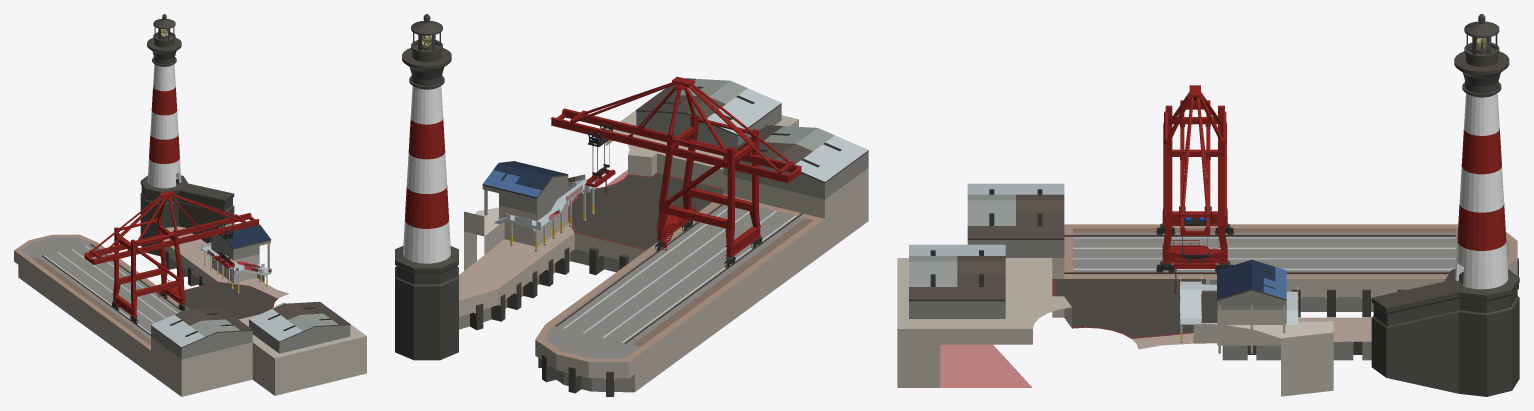
The model's file is Harbor.fbx.
The picture shows the model from 3 angles, left to right: view 1: azimuth 30°, elevation 25°; view 2: azimuth 150°, elevation 25°; view 3: azimuth 270°, elevation 25°; orthographic projection. The views are drawn at different scales.
Parts seen in each view (by area): view 1: Harbor, Lighthouse, CraneLegs.003, CraneLegs.000, Scaffold, CraneLegs.002; view 2: Harbor, Lighthouse, CraneLegs.003, CraneLegs.000, Scaffold, Rails, CraneLegs.001, ScaffoldRail.COL; view 3: Harbor, Lighthouse, CraneLegs.003, Scaffold, Rails, CraneLegs.000, ContainerLiftBeam.
Part boxes in pixels (box(x1,y1,x2,y2)): Harbor: box(14, 223, 366, 396); Lighthouse: box(140, 14, 234, 256); CraneLegs.003: box(92, 190, 243, 316); CraneLegs.000: box(84, 213, 259, 264); Scaffold: box(201, 246, 271, 293); CraneLegs.002: box(136, 233, 179, 280); Harbor: box(459, 78, 868, 396); Lighthouse: box(395, 14, 458, 360); CraneLegs.003: box(573, 76, 790, 257); CraneLegs.000: box(550, 108, 801, 183); Scaffold: box(494, 179, 594, 251); Rails: box(555, 204, 803, 343); CraneLegs.001: box(665, 137, 726, 205); ScaffoldRail.COL: box(506, 174, 598, 226); Harbor: box(897, 183, 1518, 396); Lighthouse: box(1371, 14, 1519, 396); CraneLegs.003: box(1162, 85, 1227, 263); Scaffold: box(1180, 281, 1298, 342); Rails: box(1064, 235, 1455, 273); CraneLegs.000: box(1180, 100, 1210, 235); ContainerLiftBeam: box(1174, 253, 1216, 268).
Bounding box in the file's own units: 63.91 × 68.81 × 106.
